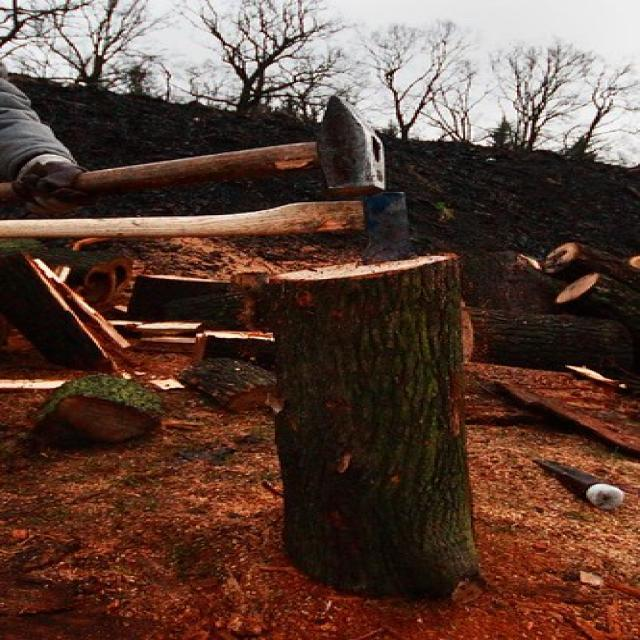Axe: (0, 192, 412, 259)
